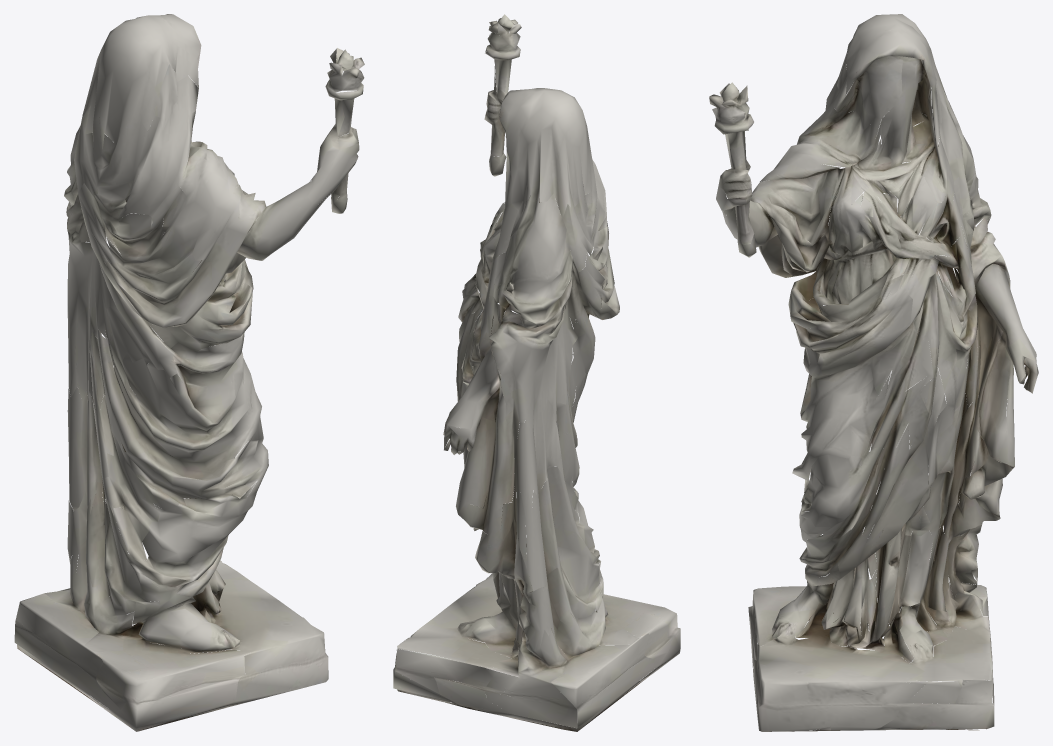
Rendered from cp_statue.glb.
The picture shows the model from 3 angles, left to right: view 1: azimuth 30°, elevation 25°; view 2: azimuth 150°, elevation 25°; view 3: azimuth 270°, elevation 25°; orthographic projection. The views are drawn at different scales.
Visible parts, largest first — view 1: tripo_node_04852874-17df-4358-9a65-16c517a566f2; view 2: tripo_node_04852874-17df-4358-9a65-16c517a566f2; view 3: tripo_node_04852874-17df-4358-9a65-16c517a566f2.
Boxes of the visible parts, x1,y1,x2,y2 form: tripo_node_04852874-17df-4358-9a65-16c517a566f2: (14,14,364,731); tripo_node_04852874-17df-4358-9a65-16c517a566f2: (393,14,680,731); tripo_node_04852874-17df-4358-9a65-16c517a566f2: (709,14,1038,731).
Bounding box in the file's own units: 0.3623 × 1 × 0.4558.
1 material, 1 textured.
